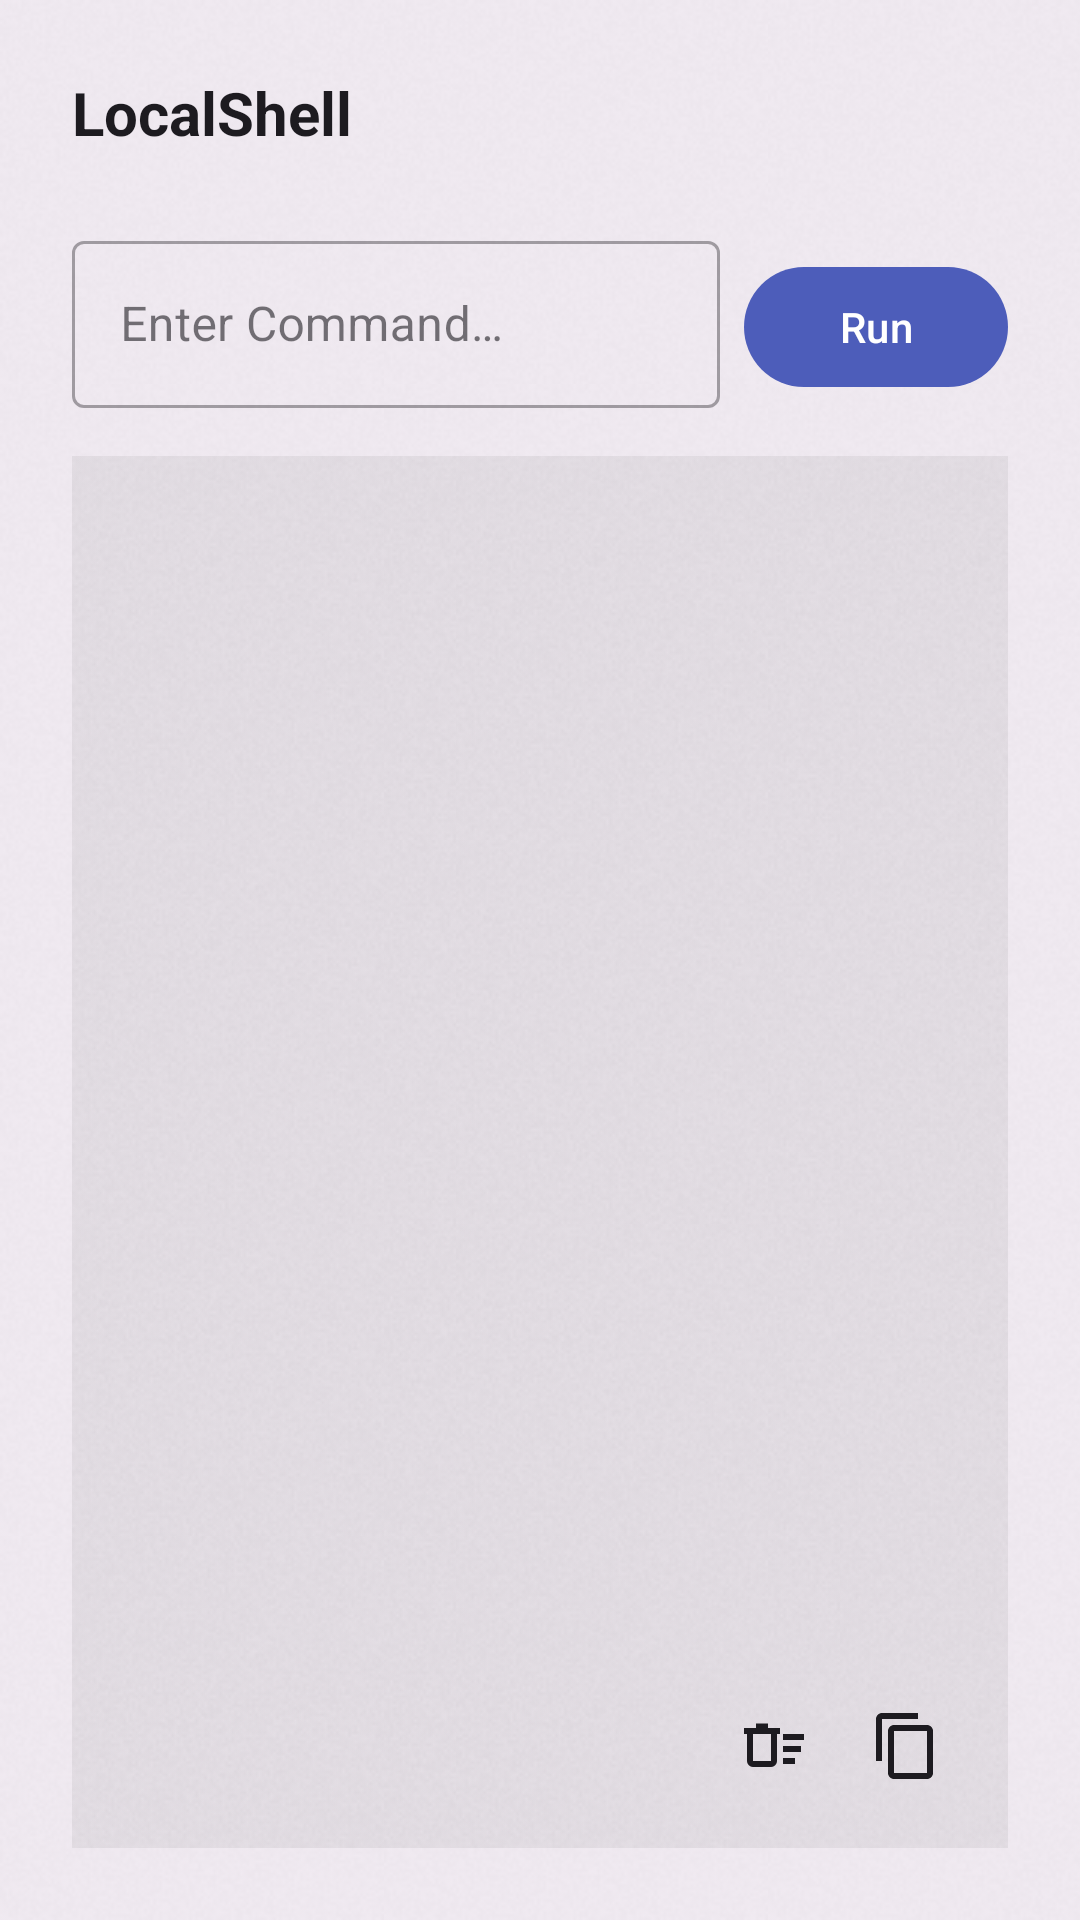

Named icons in this screenshot (1080 × 1920) and their bounding boxes, (x1, y1, x2, y2):
Clear Output: (744, 1723, 804, 1767)
Copy Output: (876, 1713, 933, 1779)
